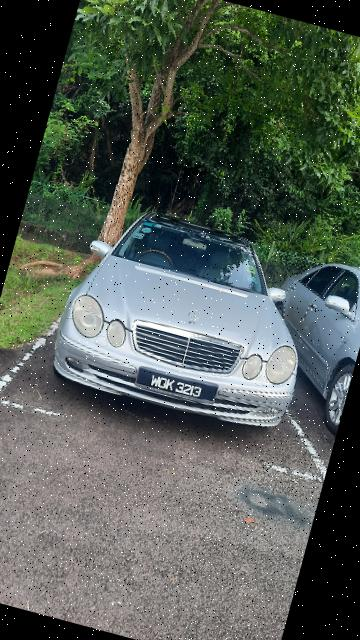License_Plate: (129, 361, 222, 407)
car: (41, 186, 333, 449)
